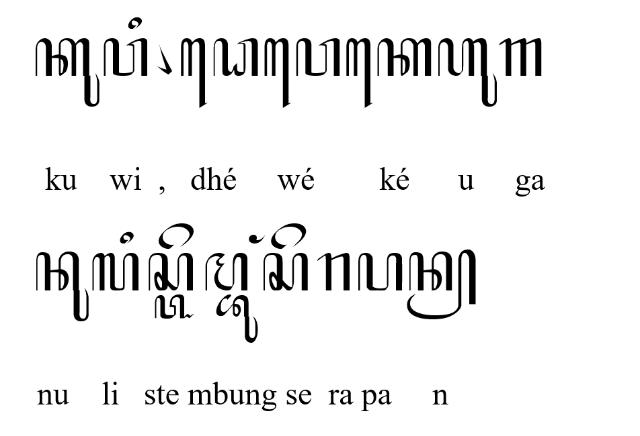-n: (406, 250, 476, 320)
_bu: (215, 294, 259, 344)
_t: (154, 294, 194, 320)
dh: (212, 37, 260, 76)
e: (270, 223, 308, 251), (158, 222, 194, 249)
e1: (180, 37, 208, 109), (264, 38, 292, 108), (346, 38, 372, 108)
g: (499, 38, 543, 78)
hu: (438, 37, 498, 108)
i: (128, 16, 142, 30), (120, 231, 134, 244)
k: (376, 38, 432, 78)
kom: (156, 42, 172, 76)
ku: (34, 38, 100, 108)
l: (92, 253, 140, 293)
m: (205, 253, 249, 292)
ng: (248, 234, 266, 244)
nu: (36, 252, 90, 322)
p: (358, 253, 402, 292)
r: (318, 254, 350, 292)
s: (262, 254, 310, 292), (148, 254, 194, 292)
w: (103, 37, 149, 77), (295, 38, 341, 78)
